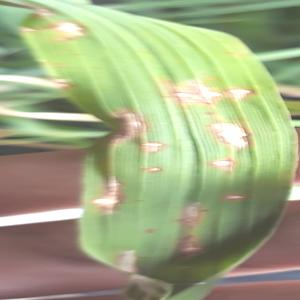1 RiceBlast: (161, 68, 255, 111), (202, 113, 272, 158), (93, 101, 149, 154), (89, 168, 129, 213), (46, 15, 87, 52), (48, 68, 89, 100), (108, 241, 144, 270), (133, 156, 170, 180), (141, 135, 166, 155)
